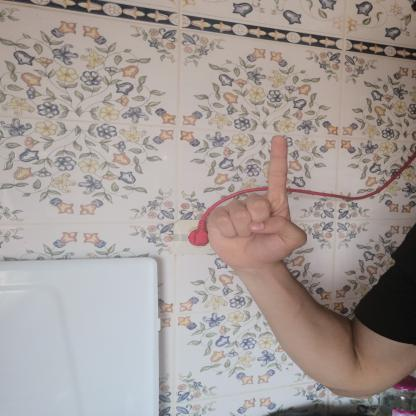BAA: (194, 125, 314, 282)
